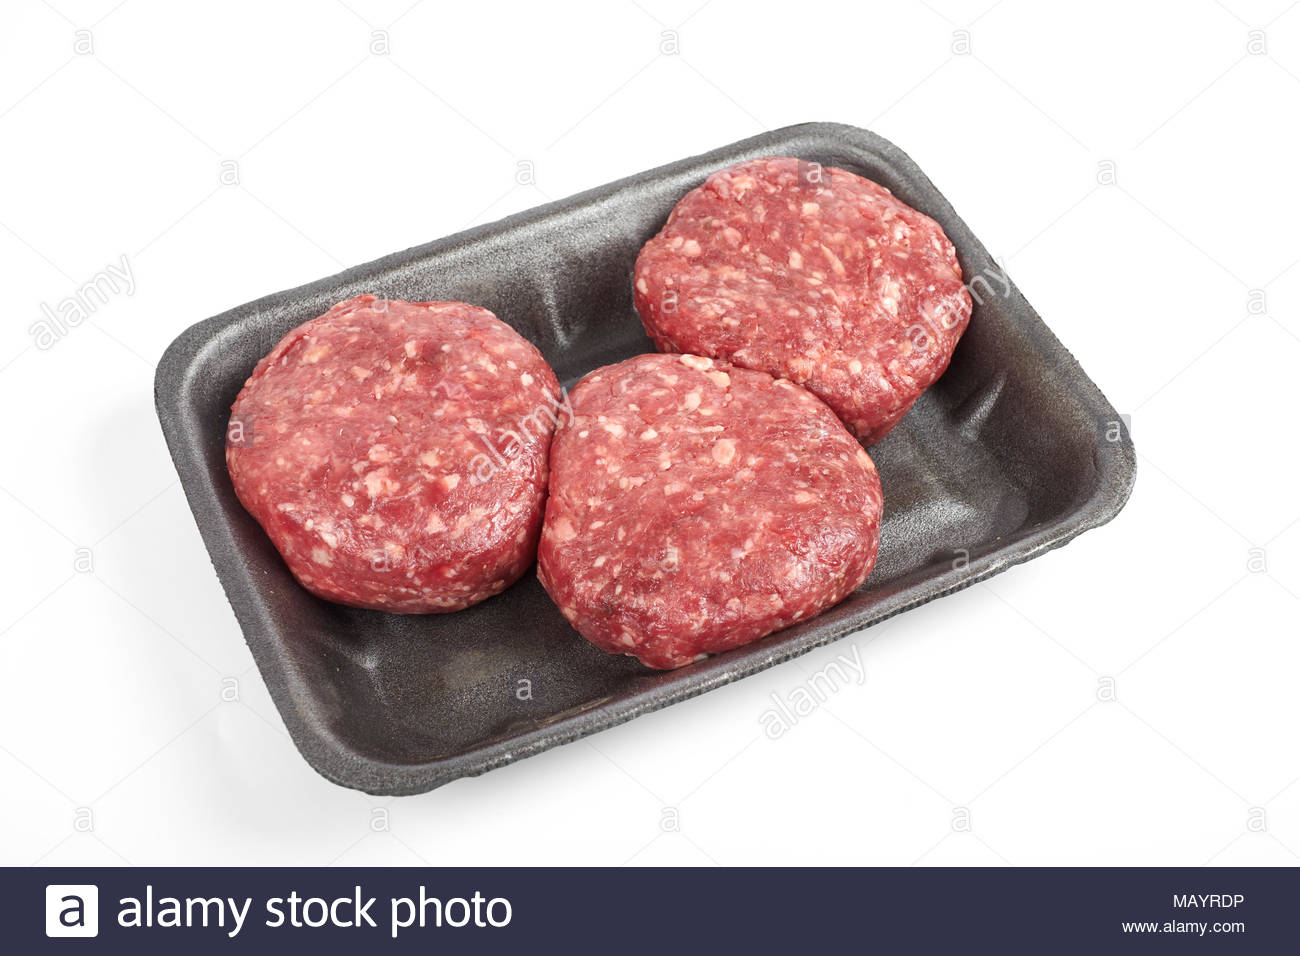ground_beef: (201, 297, 589, 655), (528, 335, 898, 698), (592, 174, 976, 422)
